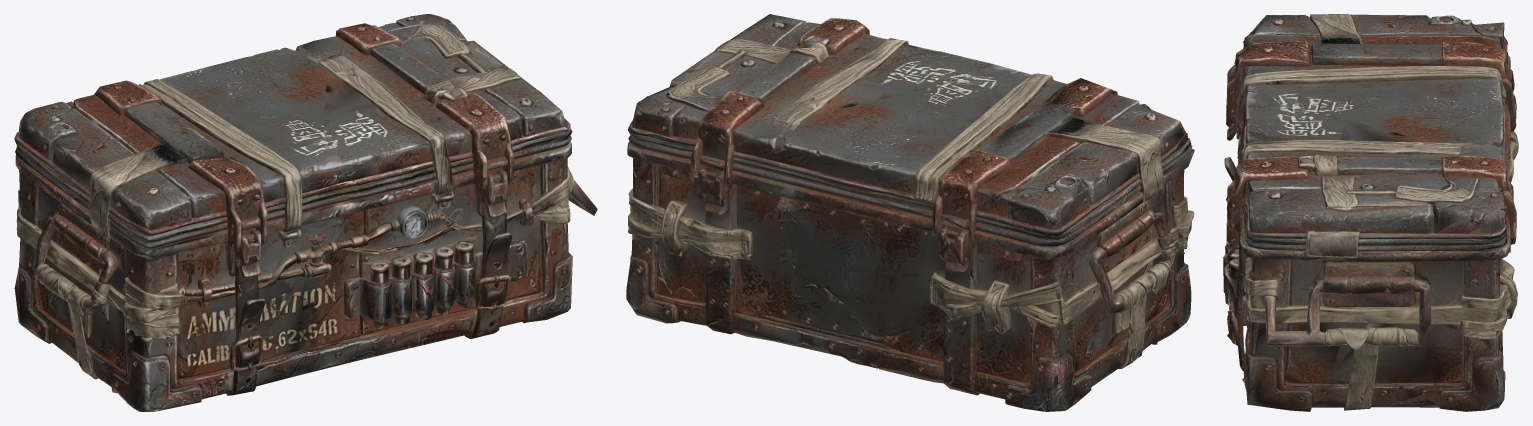
The model's file is prop_supply_crate.glb.
The picture shows the model from 3 angles, left to right: view 1: azimuth 30°, elevation 25°; view 2: azimuth 150°, elevation 25°; view 3: azimuth 270°, elevation 25°; orthographic projection. The views are drawn at different scales.
Visible parts, largest first — view 1: model; view 2: model; view 3: model.
Part boxes in pixels (x1,y1,x2,y2): model: [14, 14, 597, 411]; model: [626, 14, 1194, 411]; model: [1223, 14, 1518, 411].
Bounding box in the file's own units: 1.9 × 0.8216 × 1.03.
1 material, 1 textured.
